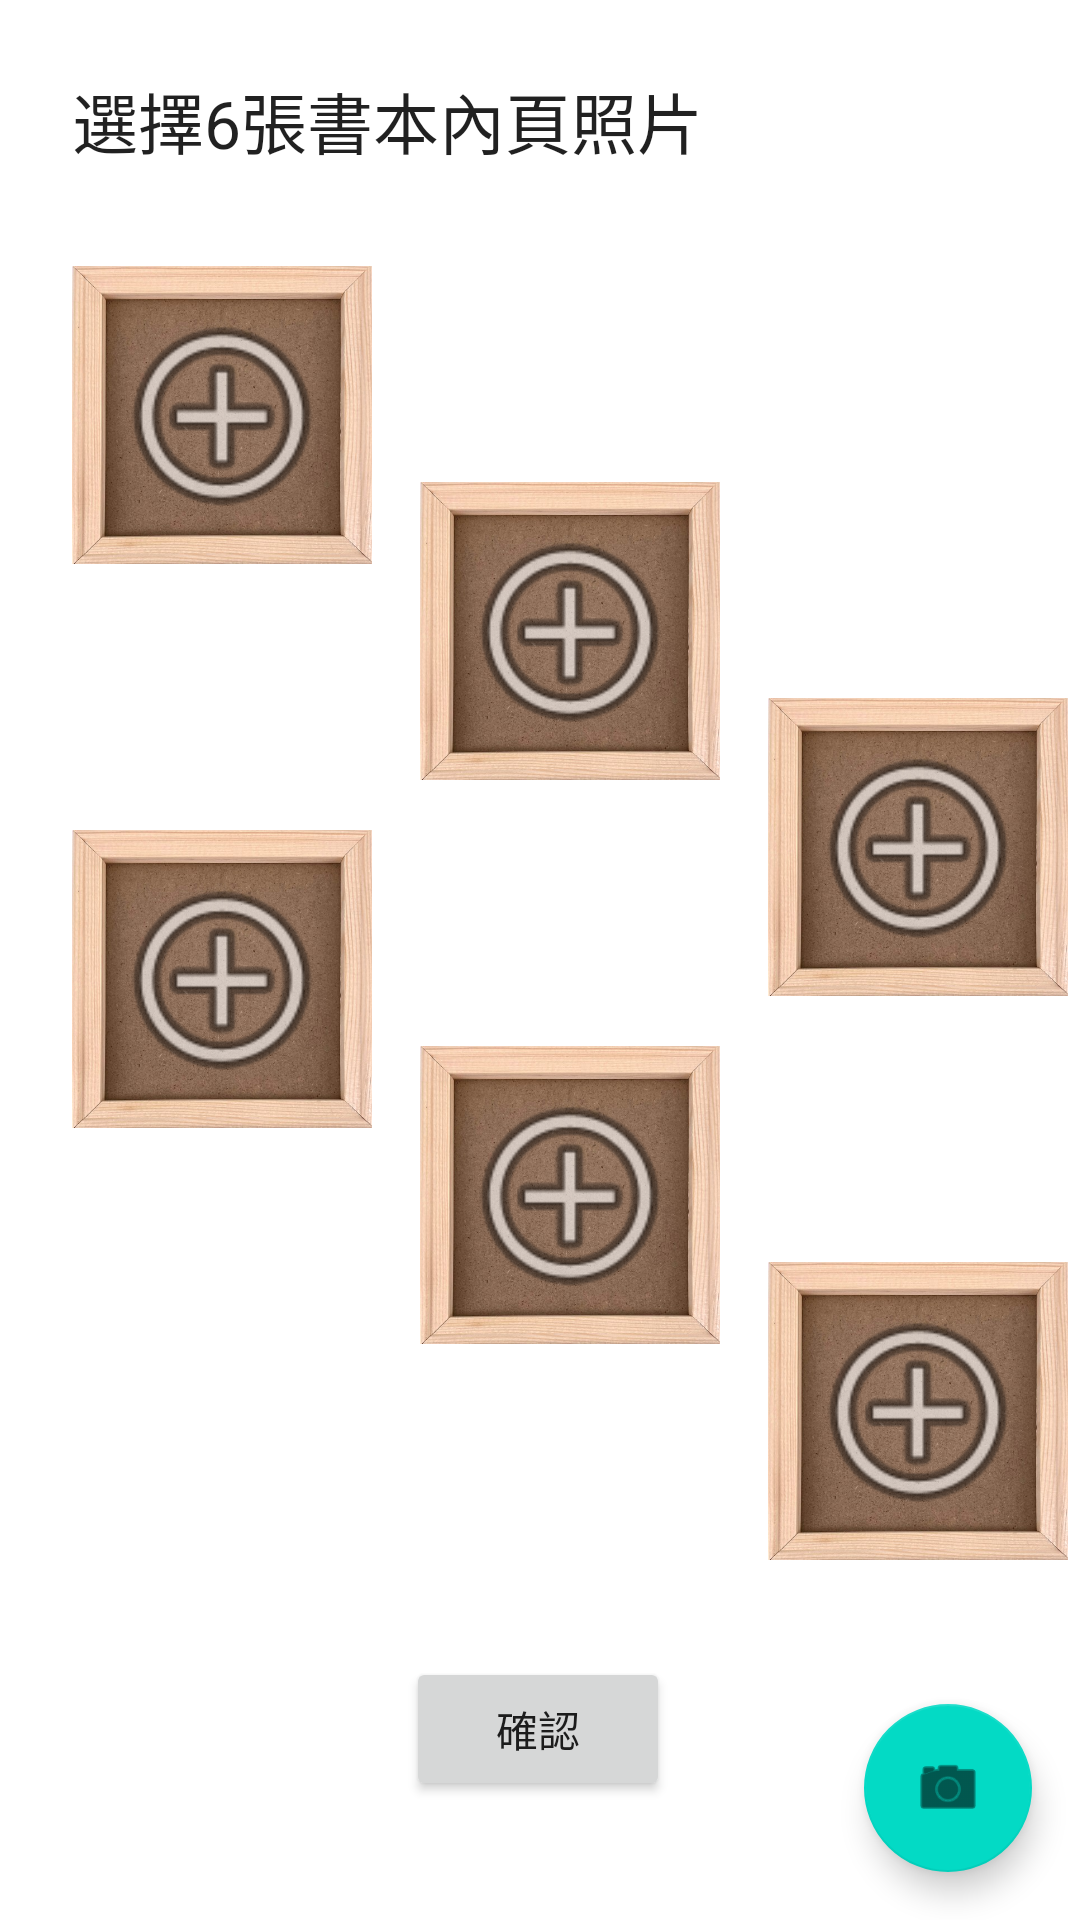

Locate icon controls on the screen. Image size 1080*1920, boxes as [x1=x1, y1=y1, x2=x2, y2=y2].
add: [x1=102, y1=295, x2=342, y2=535], [x1=450, y1=511, x2=690, y2=751], [x1=798, y1=727, x2=1038, y2=967], [x1=102, y1=859, x2=342, y2=1099], [x1=450, y1=1075, x2=690, y2=1315], [x1=798, y1=1291, x2=1038, y2=1531]
camera: [x1=864, y1=1704, x2=1032, y2=1872]
